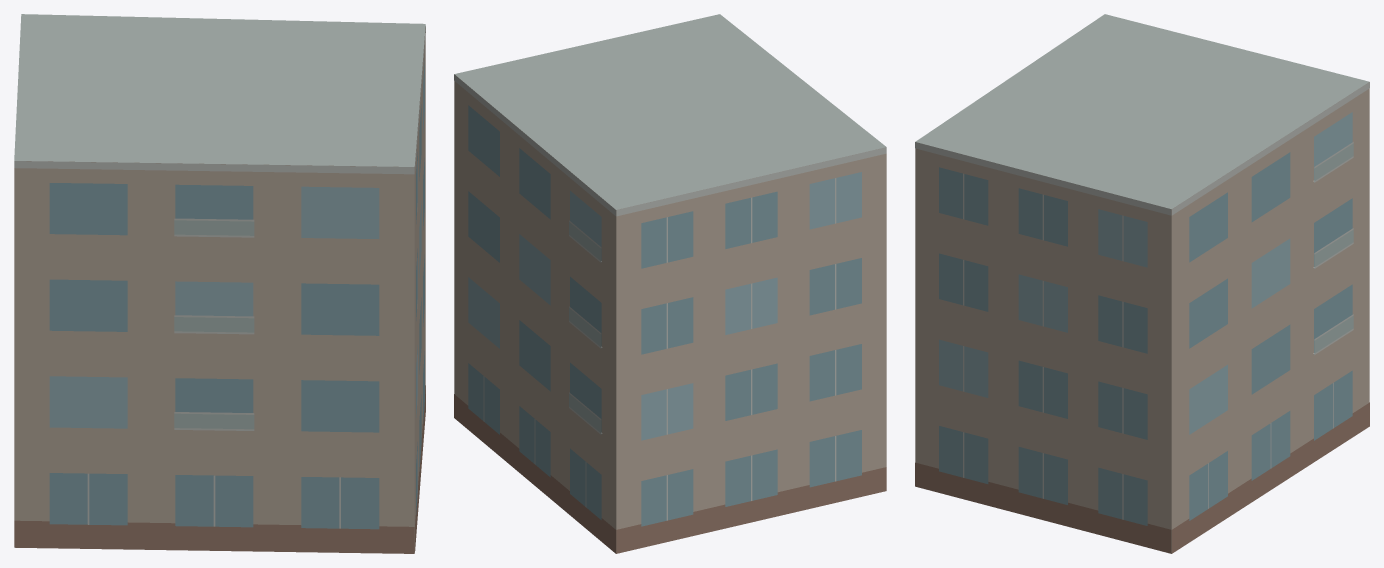
Rendered from survey-upis-32732714.glb.
The picture shows the model from 3 angles, left to right: view 1: azimuth 30°, elevation 25°; view 2: azimuth 150°, elevation 25°; view 3: azimuth 270°, elevation 25°; orthographic projection. The views are drawn at different scales.
Visible parts, largest first — view 1: survey-upis-32732714.tmp; view 2: survey-upis-32732714.tmp; view 3: survey-upis-32732714.tmp.
Boxes of the visible parts, x1,y1,x2,y2 form: survey-upis-32732714.tmp: (14, 14, 425, 553); survey-upis-32732714.tmp: (454, 14, 886, 553); survey-upis-32732714.tmp: (915, 14, 1369, 553).
Bounding box in the file's own units: 15.74 × 12.95 × 15.49.
